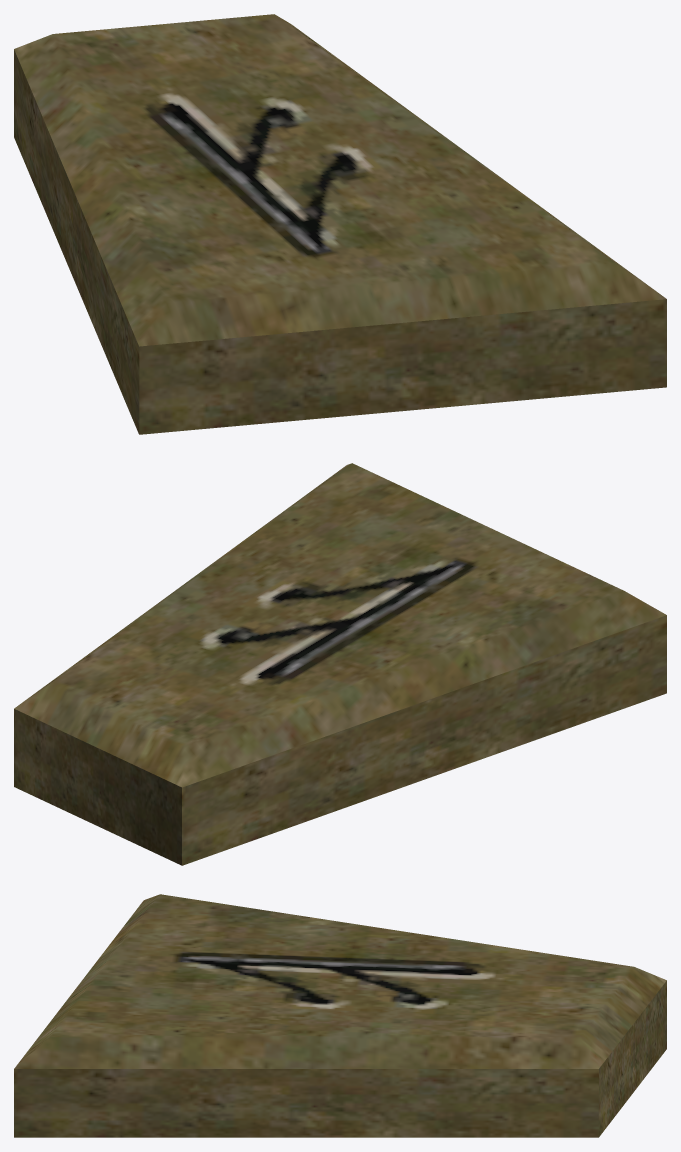
Rendered from INST_SM_RUNEC.fbx.
3 renders of one model, top to bottom at view 1: azimuth 30°, elevation 25°; view 2: azimuth 150°, elevation 25°; view 3: azimuth 270°, elevation 25°, orthographic. The views are drawn at different scales.
Visible parts, largest first — view 1: INST_SM_RUNEC; view 2: INST_SM_RUNEC; view 3: INST_SM_RUNEC.
Boxes of the visible parts, x1,y1,x2,y2 form: INST_SM_RUNEC: (14,14,666,434); INST_SM_RUNEC: (14,463,666,865); INST_SM_RUNEC: (14,894,666,1137).
Bounding box in the file's own units: 5640 × 1386 × 9220.
1 material, 1 textured.
